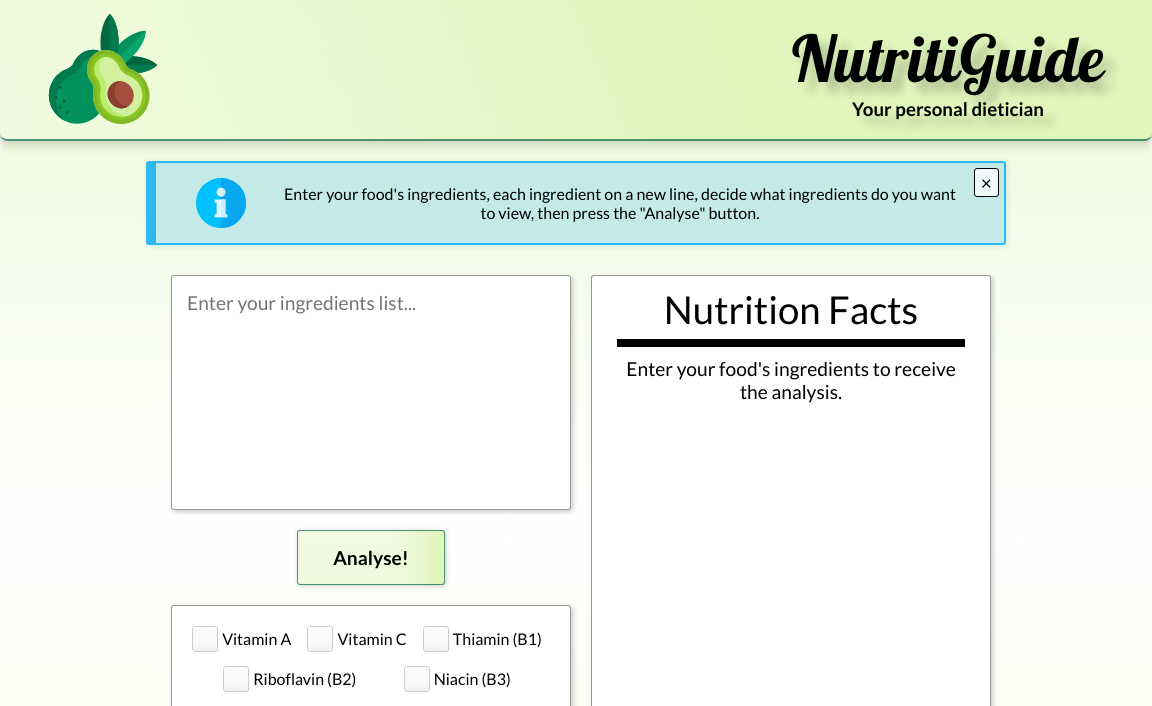
Test: Testing the notifications › renders the error notification when the ingredients are invalid and the response is empty
In the text box with placeholder "Enter your ingredients list...": x=371, y=392 [171,275,571,510], type "1234asdf"
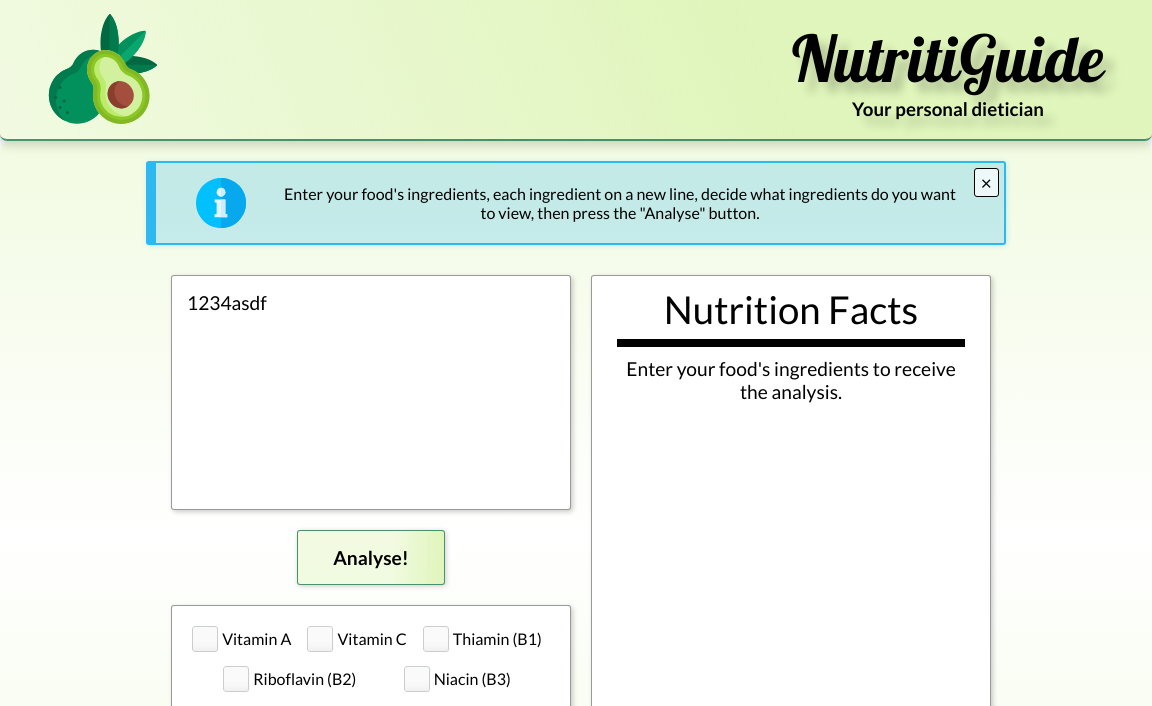
Click the button "Analyse!": x=371, y=557 [297,530,445,585]
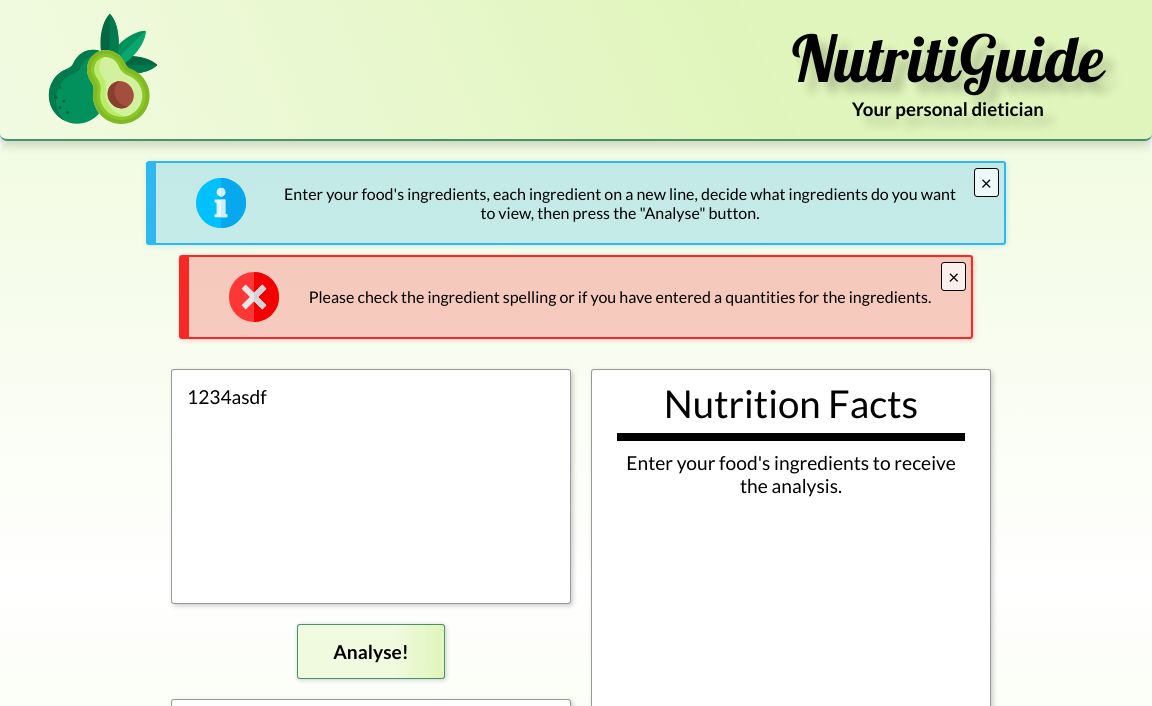
expect the list item "Please check the ingredient spelling" is shown: met, box [309,287,931,306]
